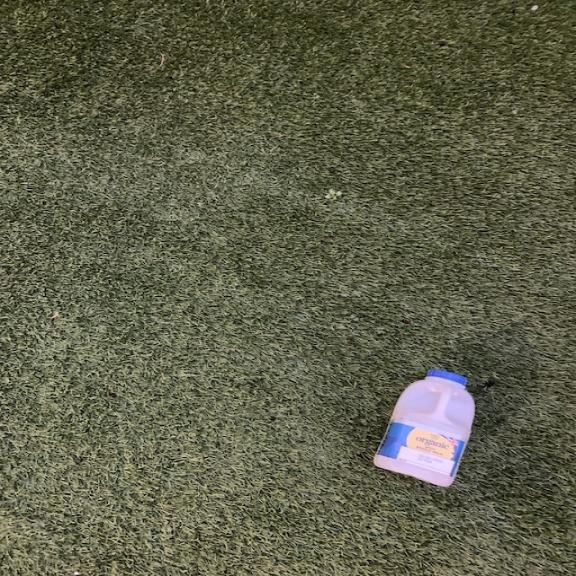Plastik: (370, 367, 480, 490)
